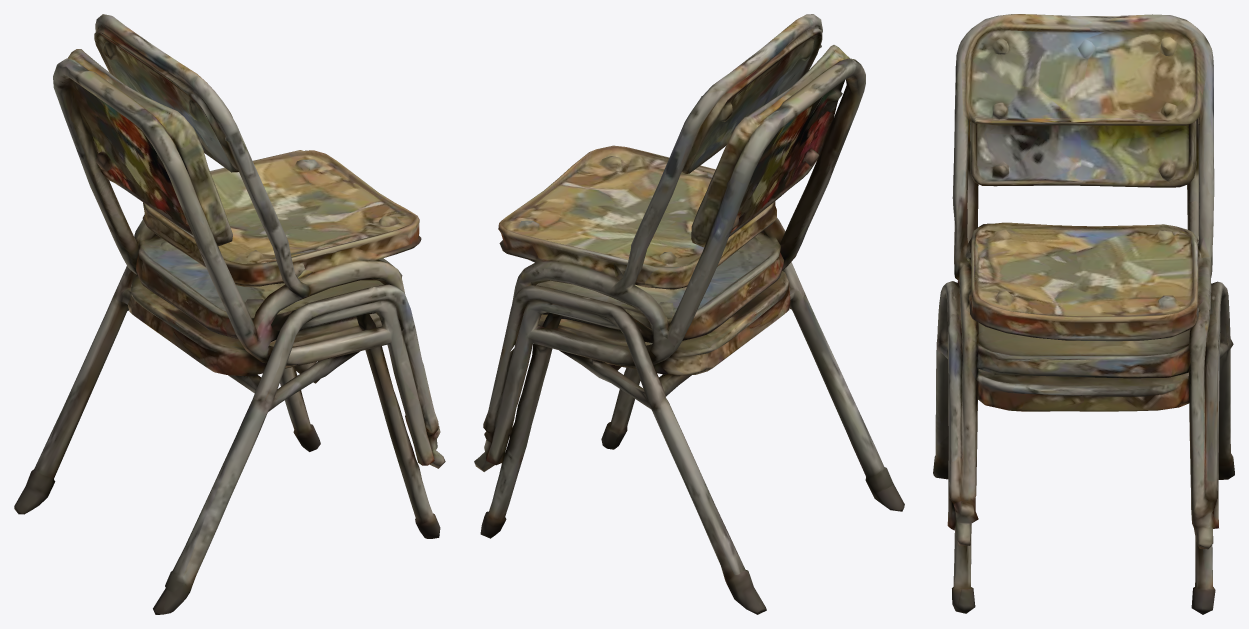
The model's file is de_chairs.glb.
The picture shows the model from 3 angles, left to right: view 1: azimuth 30°, elevation 25°; view 2: azimuth 150°, elevation 25°; view 3: azimuth 270°, elevation 25°; orthographic projection.
Parts seen in each view (by area): view 1: tripo_node_fbc9dcf3-f283-4a5e-9ce7-0fb5bc1afb82; view 2: tripo_node_fbc9dcf3-f283-4a5e-9ce7-0fb5bc1afb82; view 3: tripo_node_fbc9dcf3-f283-4a5e-9ce7-0fb5bc1afb82.
Part boxes in pixels (<box>): tripo_node_fbc9dcf3-f283-4a5e-9ce7-0fb5bc1afb82: <box>14,14,445,614</box>; tripo_node_fbc9dcf3-f283-4a5e-9ce7-0fb5bc1afb82: <box>474,14,904,614</box>; tripo_node_fbc9dcf3-f283-4a5e-9ce7-0fb5bc1afb82: <box>933,14,1234,614</box>.
Bounding box in the file's own units: 0.6222 × 1 × 0.5525.
Materials: 1 (1 with a texture image).
